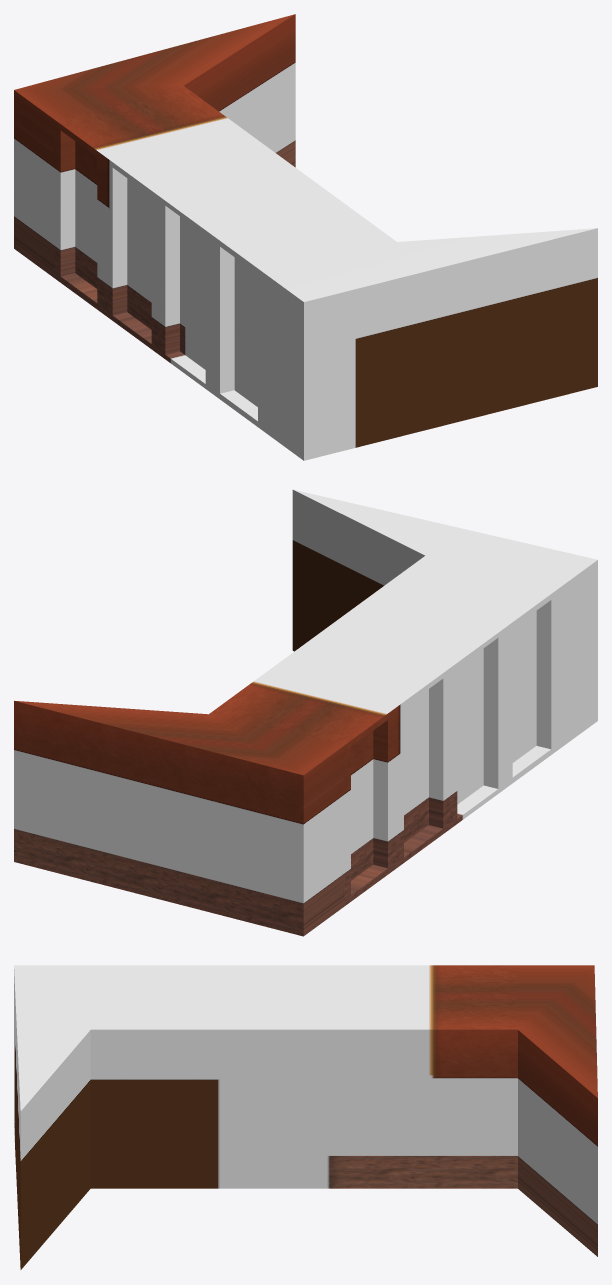
The model's file is bartable.obj.
3 renders of one model, top to bottom at view 1: azimuth 30°, elevation 25°; view 2: azimuth 150°, elevation 25°; view 3: azimuth 270°, elevation 25°, orthographic.
Visible parts, largest first — view 1: Cube.001; view 2: Cube.001; view 3: Cube.001.
Boxes of the visible parts, x1=… form: Cube.001: x1=14, y1=14, x2=597, y2=460; Cube.001: x1=14, y1=489, x2=597, y2=936; Cube.001: x1=14, y1=965, x2=597, y2=1269.
Bounding box in the file's own units: 2.74 × 1.46 × 4.66.
